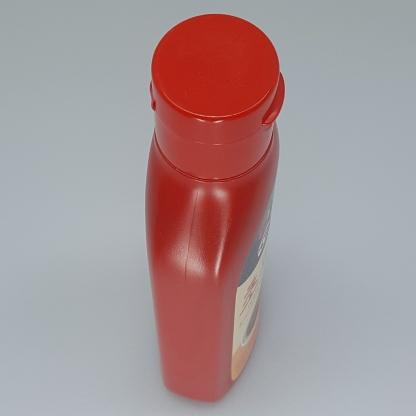---------: (145, 14, 285, 402)
